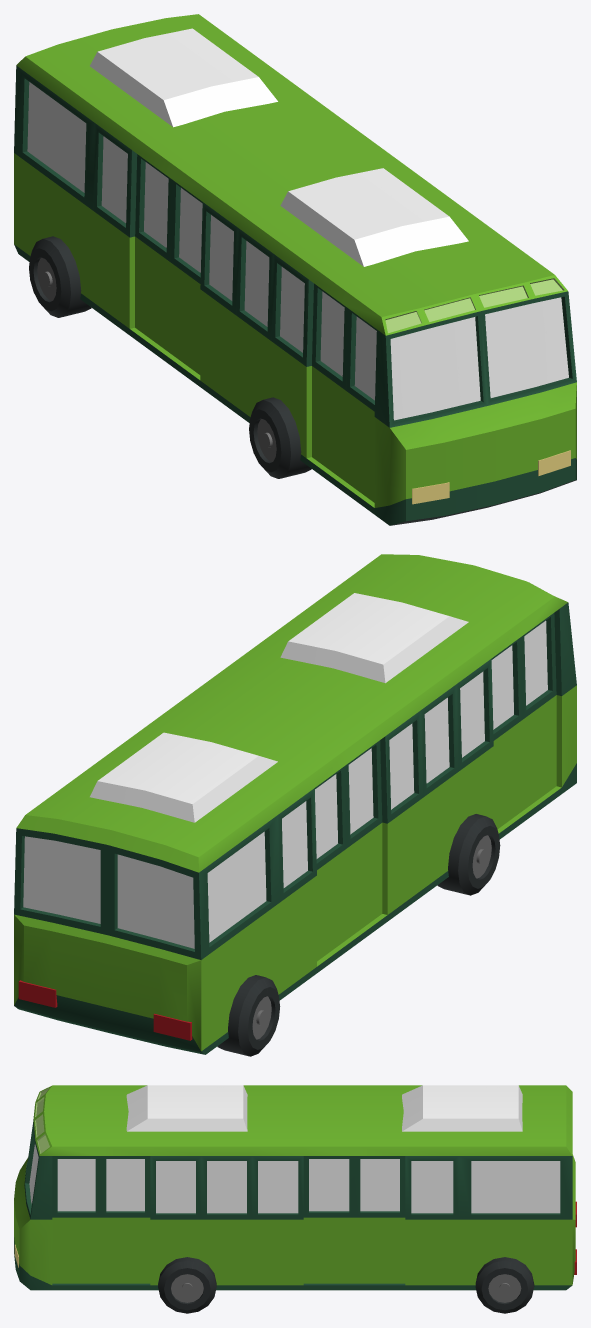
Rendered from obj_bus.fbx.
3 views of the same model, one above another, from view 1: azimuth 30°, elevation 25°; view 2: azimuth 150°, elevation 25°; view 3: azimuth 270°, elevation 25° (orthographic). The views are drawn at different scales.
Parts seen in each view (by area): view 1: obj_bus; view 2: obj_bus; view 3: obj_bus.
Part boxes in pixels (bbox=[...]): obj_bus: bbox=[14, 14, 576, 525]; obj_bus: bbox=[14, 554, 576, 1056]; obj_bus: bbox=[14, 1085, 576, 1313].
Bounding box in the file's own units: 1.88 × 2.01 × 5.81.
2 materials, 2 textured.
